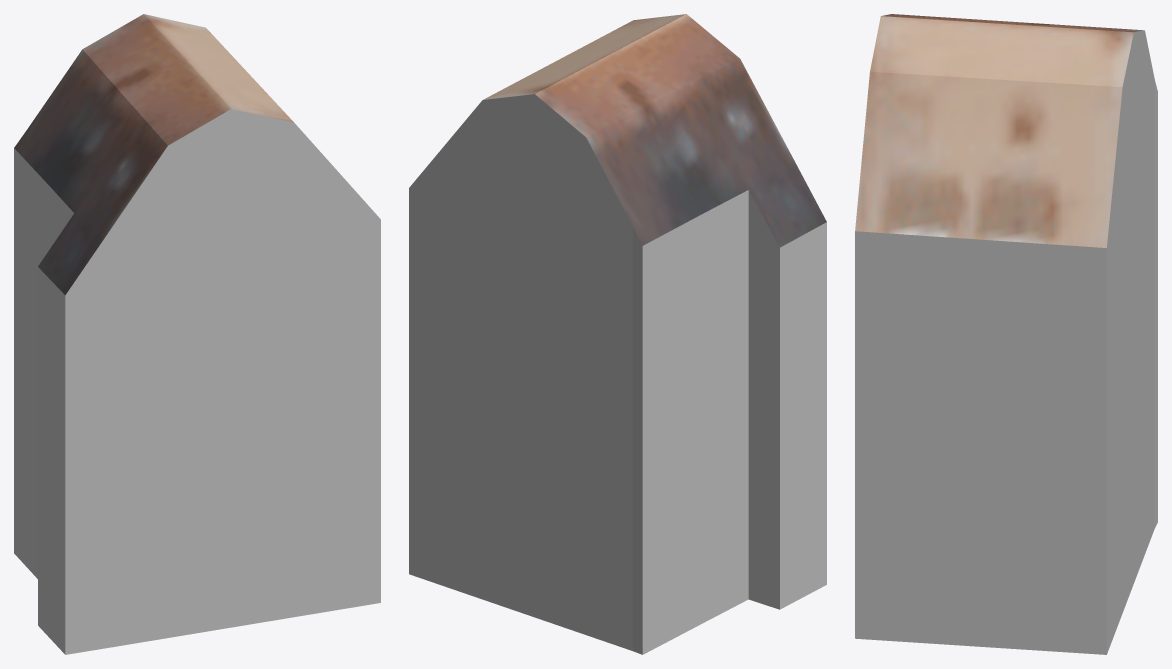
The model's file is DEBW_0010007TxbK.gltf.
3 renders of one model, left to right at view 1: azimuth 30°, elevation 25°; view 2: azimuth 150°, elevation 25°; view 3: azimuth 270°, elevation 25°, orthographic. The views are drawn at different scales.
Parts seen in each view (by area): view 1: Z_UP; view 2: Z_UP; view 3: Z_UP.
Boxes of the visible parts, box(x1,y1,x2,y2) form: Z_UP: box(14, 14, 380, 654); Z_UP: box(409, 14, 826, 654); Z_UP: box(855, 14, 1157, 654).
Bounding box in the file's own units: 13.66 × 21.07 × 10.49.
2 materials, 1 textured.
